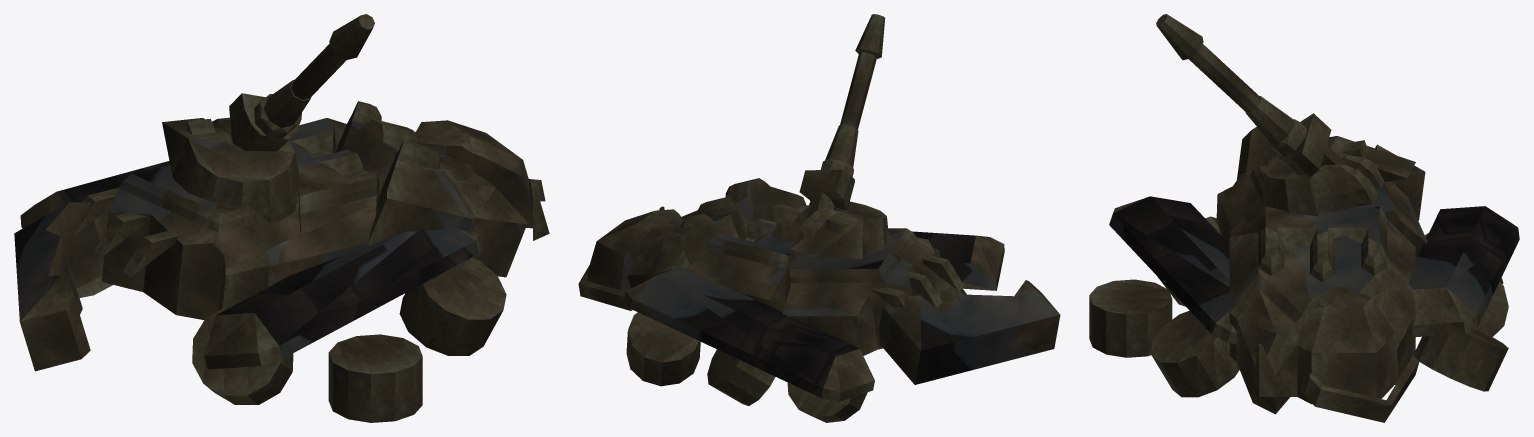
The model's file is instigatorcorpse2.obj.
3 views of the same model, side by side, from view 1: azimuth 30°, elevation 25°; view 2: azimuth 150°, elevation 25°; view 3: azimuth 270°, elevation 25° (orthographic). The views are drawn at different scales.
Size of the model in its own units: 4.76 by 3.09 by 3.61.
